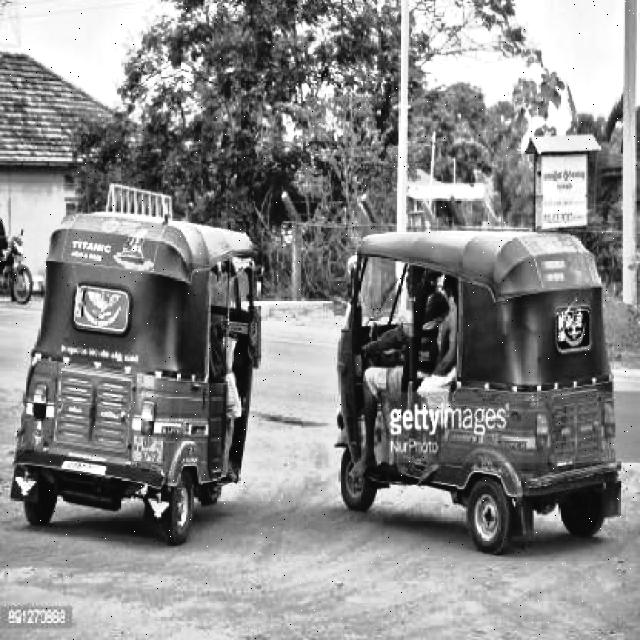Auto-Rickshaw: (326, 217, 621, 555), (15, 210, 283, 548)
